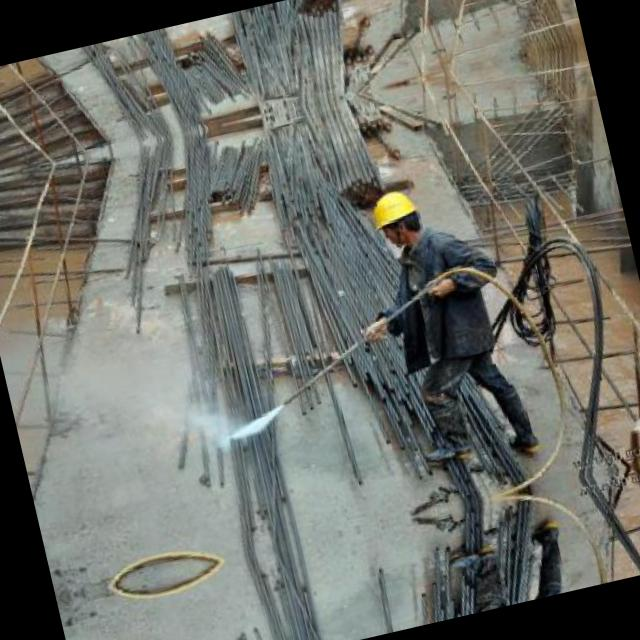helmet: (363, 180, 429, 255)
